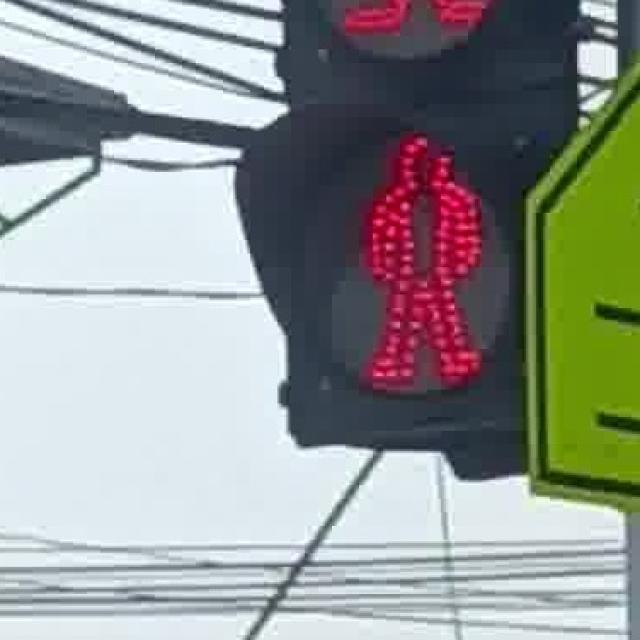red_light: (344, 114, 512, 402)
